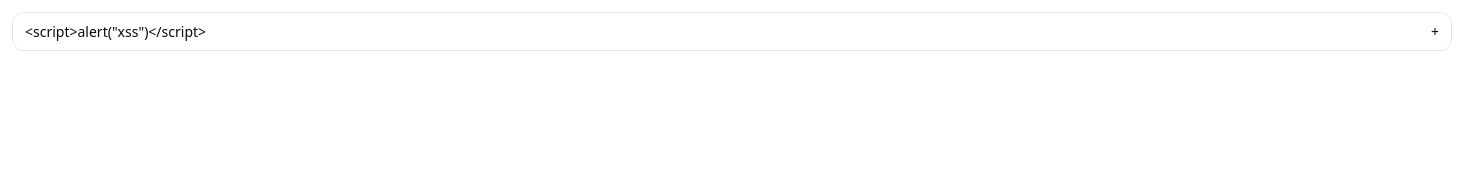
Scenario: Accordion › edge cases - special characters › handles special characters in title and content
Click the button "<script>alert(\"xss\")</script> +" at (116, 32), box [13,13,1451,50]
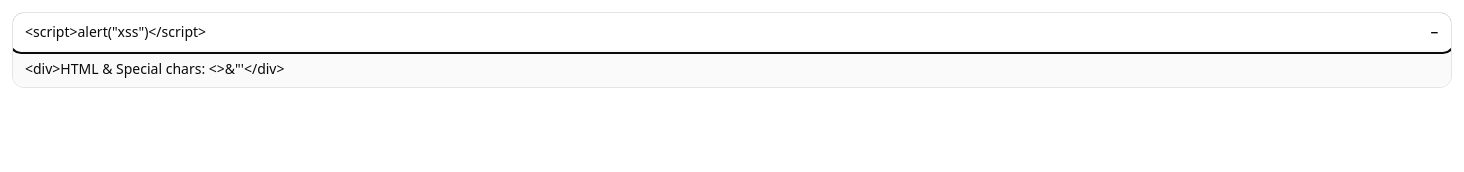
Expected: the text "<div>HTML & Special chars: <>&\"'</div>" is shown, [13,50,1451,87]
